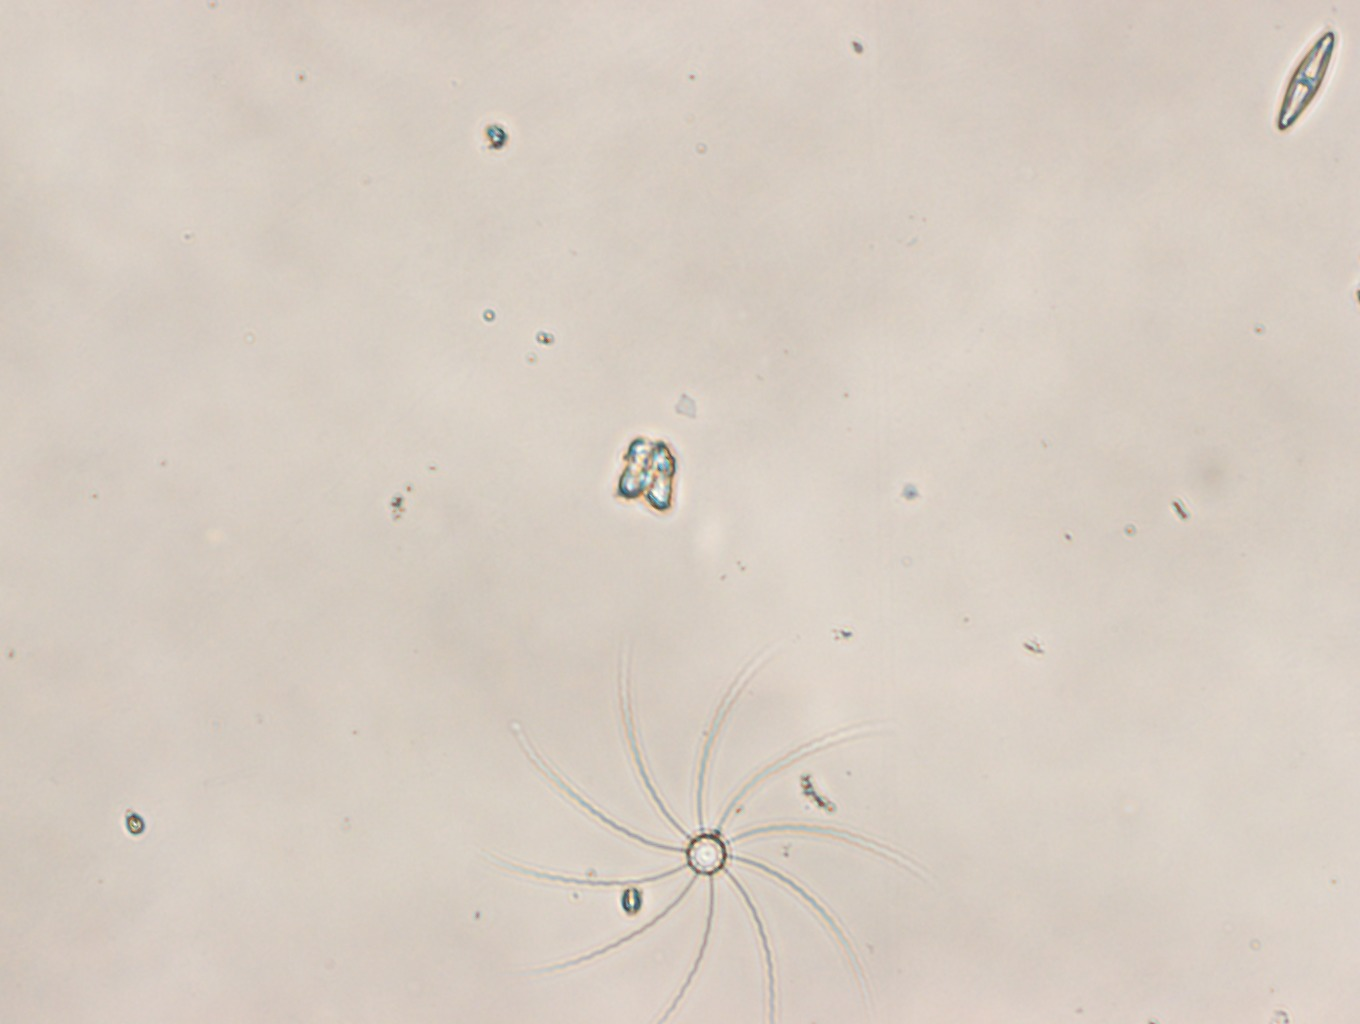bacteriastrum: (499, 640, 932, 1024)
navicula: (1275, 27, 1336, 131)
